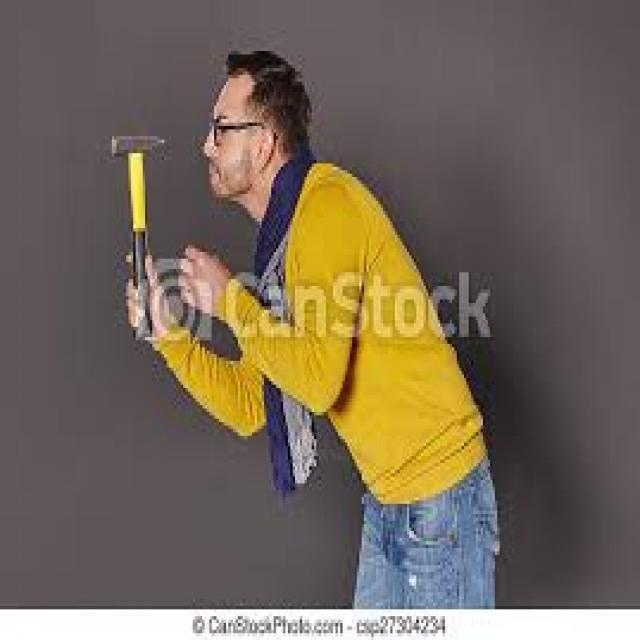hammer: (101, 122, 177, 348)
